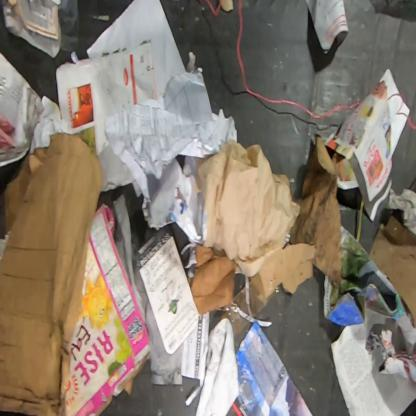cardboard: (0, 131, 103, 415), (65, 202, 152, 415), (289, 136, 344, 286), (368, 214, 415, 328), (249, 242, 316, 318), (188, 244, 238, 315), (220, 308, 249, 337), (232, 286, 250, 315)
